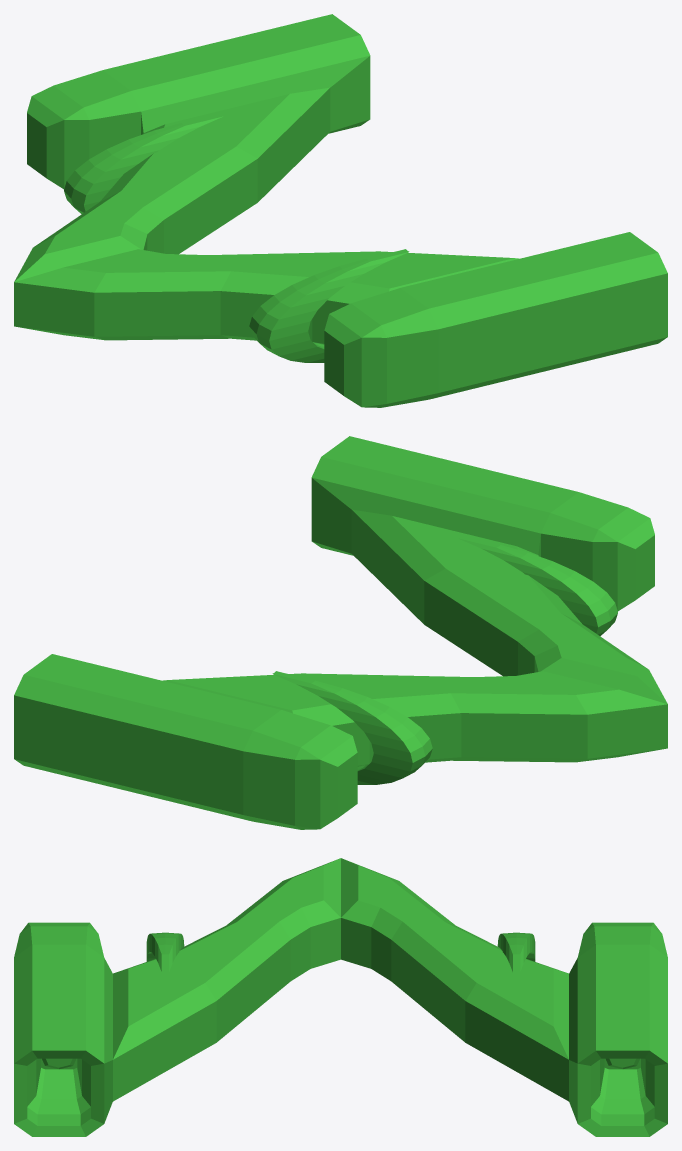
Rendered from Enemy.fbx.
3 renders of one model, top to bottom at view 1: azimuth 30°, elevation 25°; view 2: azimuth 150°, elevation 25°; view 3: azimuth 270°, elevation 25°, orthographic. The views are drawn at different scales.
Parts seen in each view (by area): view 1: Ship; view 2: Ship; view 3: Ship.
Boxes of the visible parts, x1,y1,x2,y2 form: Ship: (14,14,667,407); Ship: (14,436,667,829); Ship: (14,858,667,1136).
Size of the model in its own units: 745 by 147 by 925.
